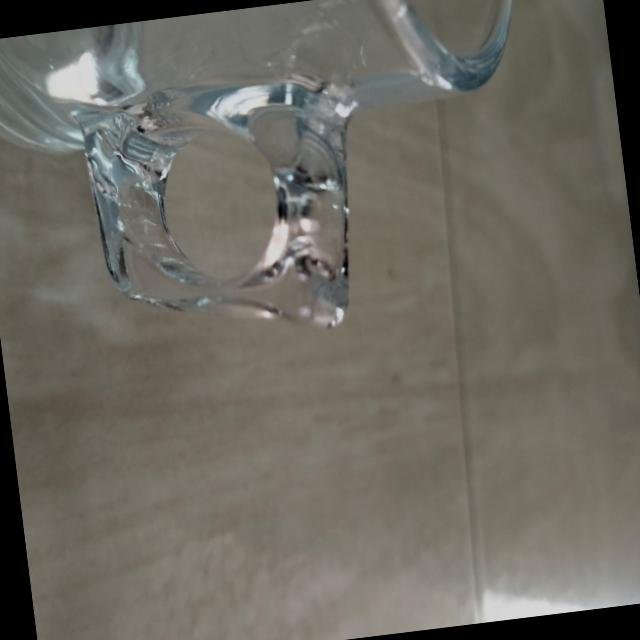glass-VX4N: (0, 0, 557, 367)
